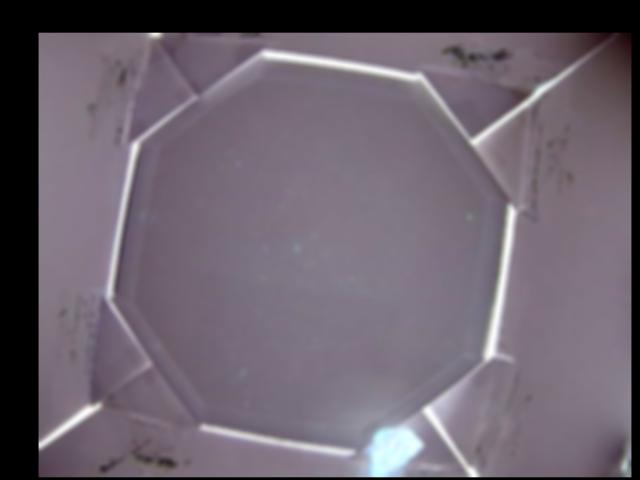Brisk: (369, 426, 425, 477)
